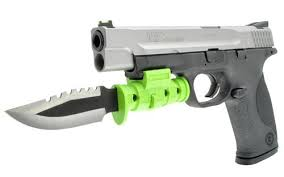gun: (88, 19, 280, 168)
